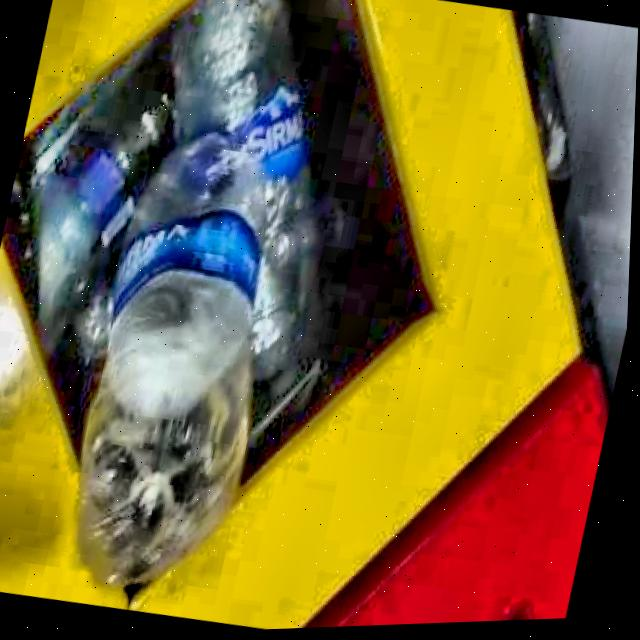plastic: (81, 209, 261, 586)
